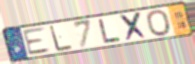7: (73, 18, 93, 50)
E: (21, 25, 53, 56)
L: (48, 24, 74, 53), (97, 18, 123, 45)
O: (145, 9, 174, 38)
X: (119, 11, 150, 43)
